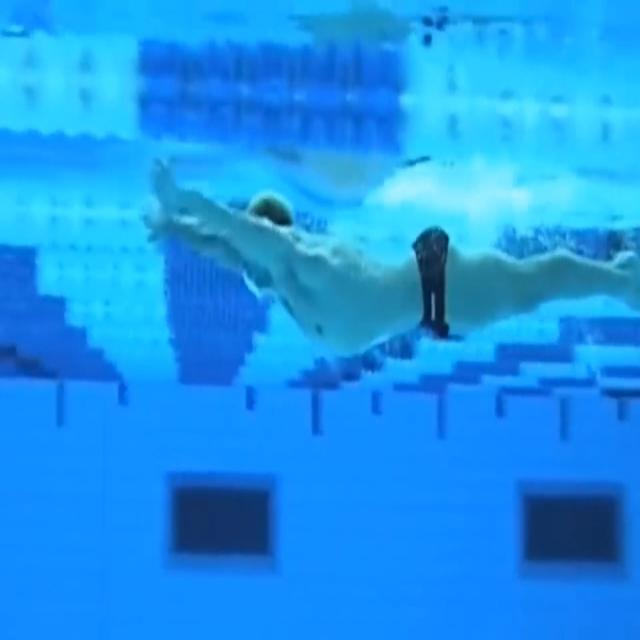Swimming: (143, 150, 640, 361)
